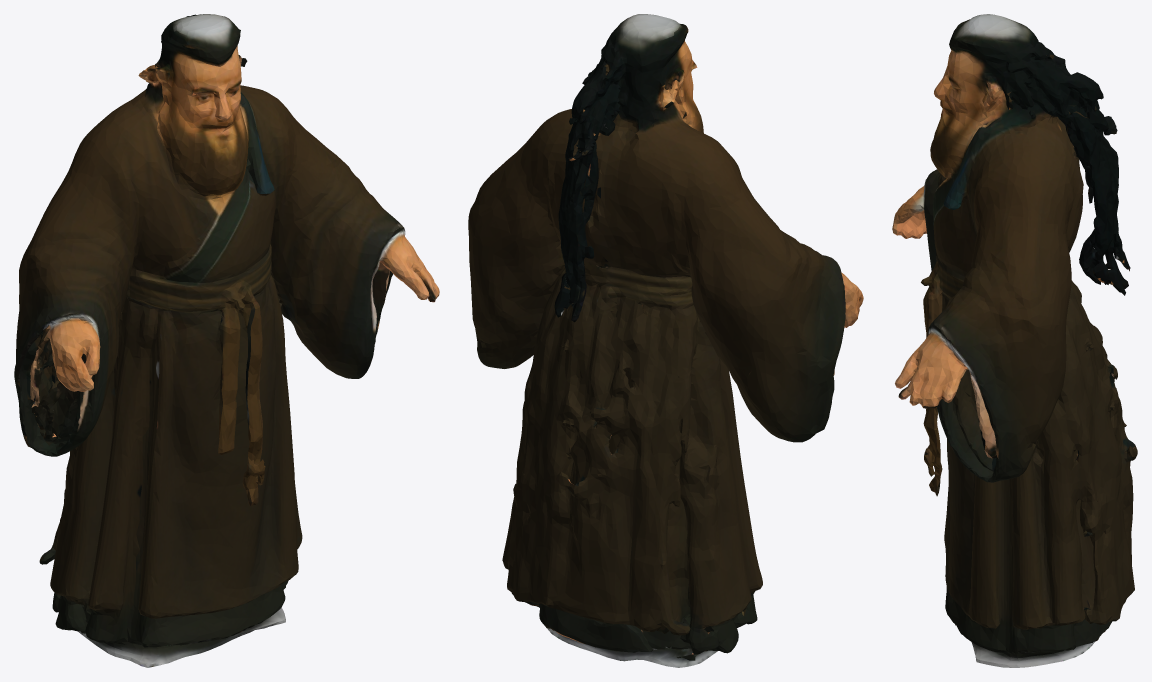
3 renders of one model, left to right at view 1: azimuth 30°, elevation 25°; view 2: azimuth 150°, elevation 25°; view 3: azimuth 270°, elevation 25°, orthographic. The views are drawn at different scales.
Parts seen in each view (by area): view 1: tmphz6ox462.ply; view 2: tmphz6ox462.ply; view 3: tmphz6ox462.ply.
Part boxes in pixels (bbox=[...]): tmphz6ox462.ply: bbox=[14, 14, 439, 667]; tmphz6ox462.ply: bbox=[468, 14, 863, 667]; tmphz6ox462.ply: bbox=[892, 14, 1137, 667].
Size of the model in its own units: 1.31 by 1.96 by 0.7206.
Materials: 1 (1 with a texture image).
